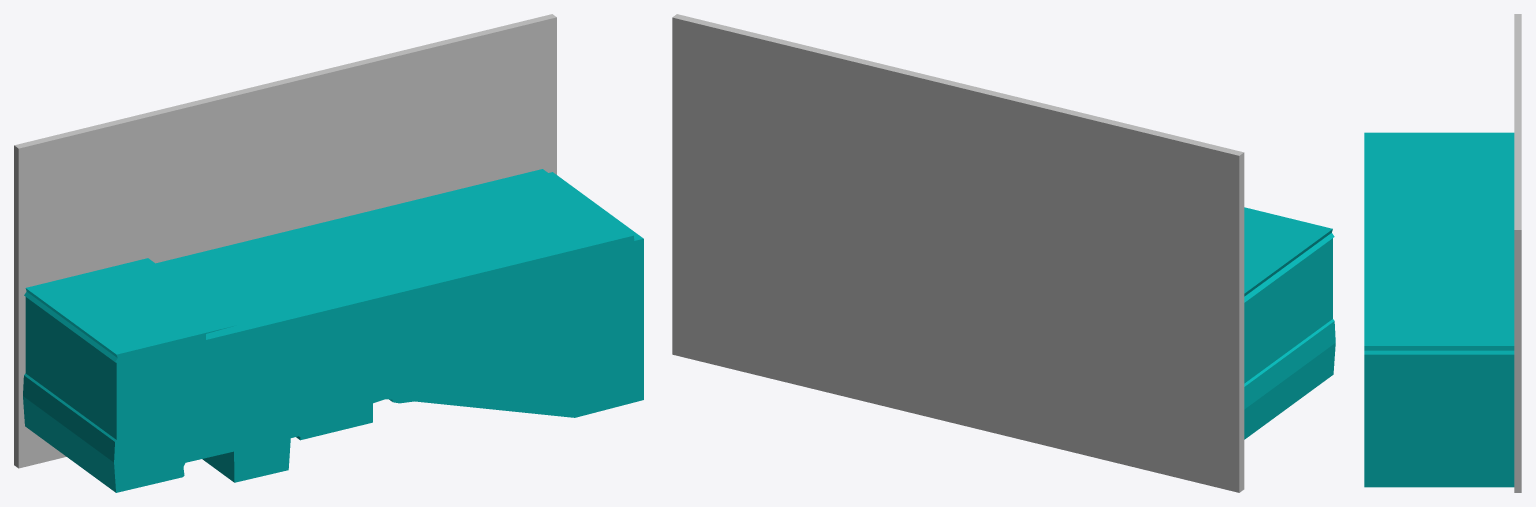
3 renders of one model, left to right at view 1: azimuth 30°, elevation 25°; view 2: azimuth 150°, elevation 25°; view 3: azimuth 270°, elevation 25°, orthographic. The views are drawn at different scales.
Visible parts, largest first — view 1: world; view 2: world; view 3: world.
Part boxes in pixels (<box>): world: <box>14,14,643,492</box>; world: <box>672,14,1335,492</box>; world: <box>1364,14,1521,492</box>.
Size of the model in its own units: 10.23 by 5.81 by 3.15.
